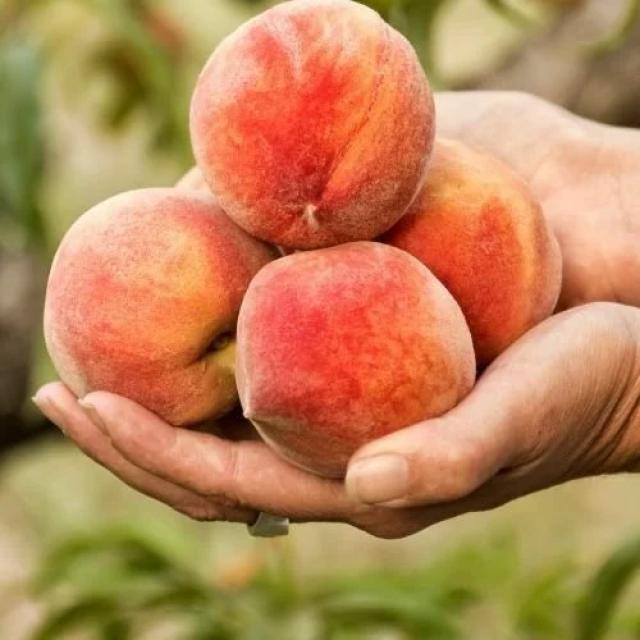peach: (189, 0, 436, 256), (234, 241, 479, 479), (42, 188, 284, 428), (378, 140, 562, 349)
